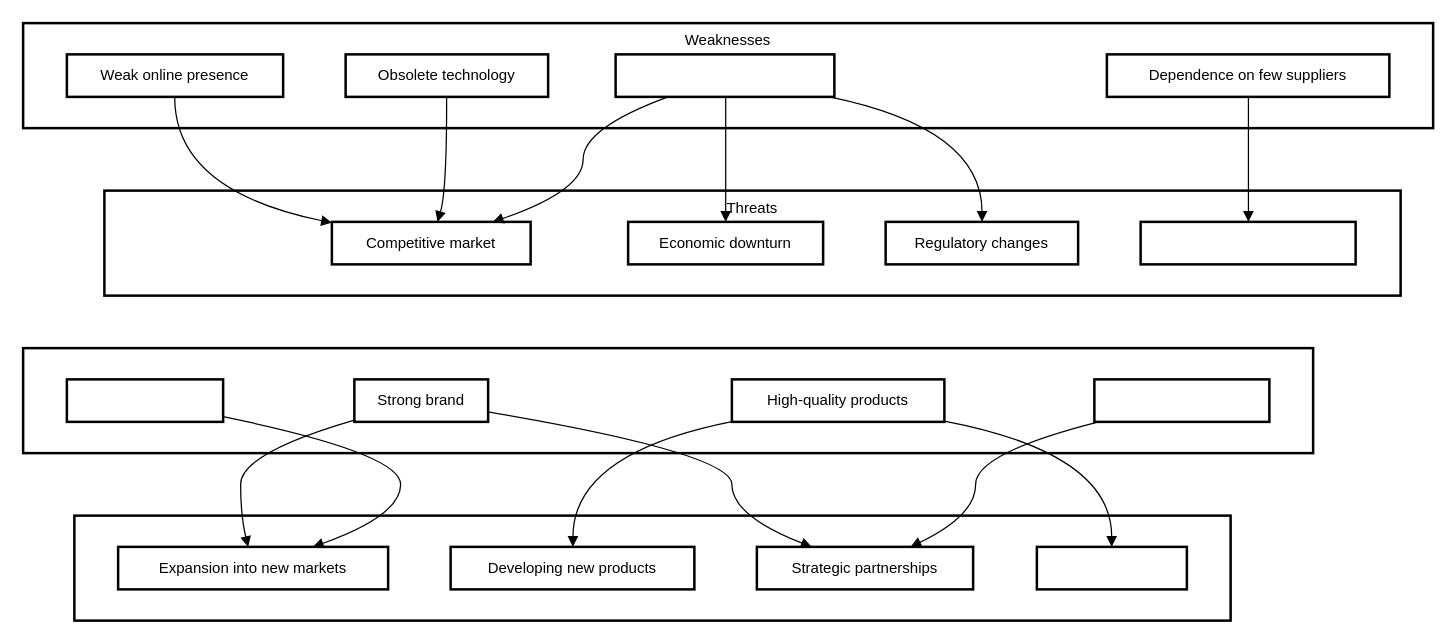
The diagram is 1455 pixels wide and 643 high, and some of its shapes have lost their labels. Each missing label, with the box of its shape:
Cost leadership: (65, 378, 224, 422)
Emerging competitors: (1139, 220, 1356, 265)
Limited product range: (614, 52, 835, 98)
Market growth: (1035, 545, 1188, 590)
Opportunities: (72, 514, 1231, 621)
Skilled workforce: (1092, 378, 1270, 422)
Strengths: (21, 346, 1314, 454)
